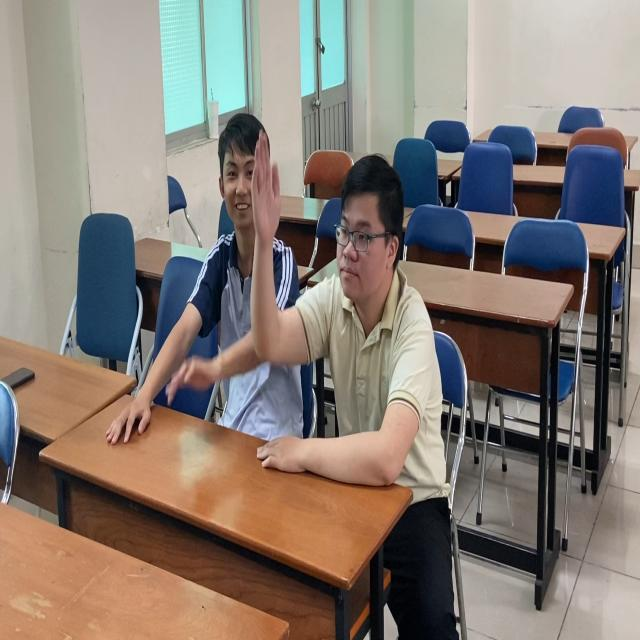raise_hand: (246, 115, 457, 493)
